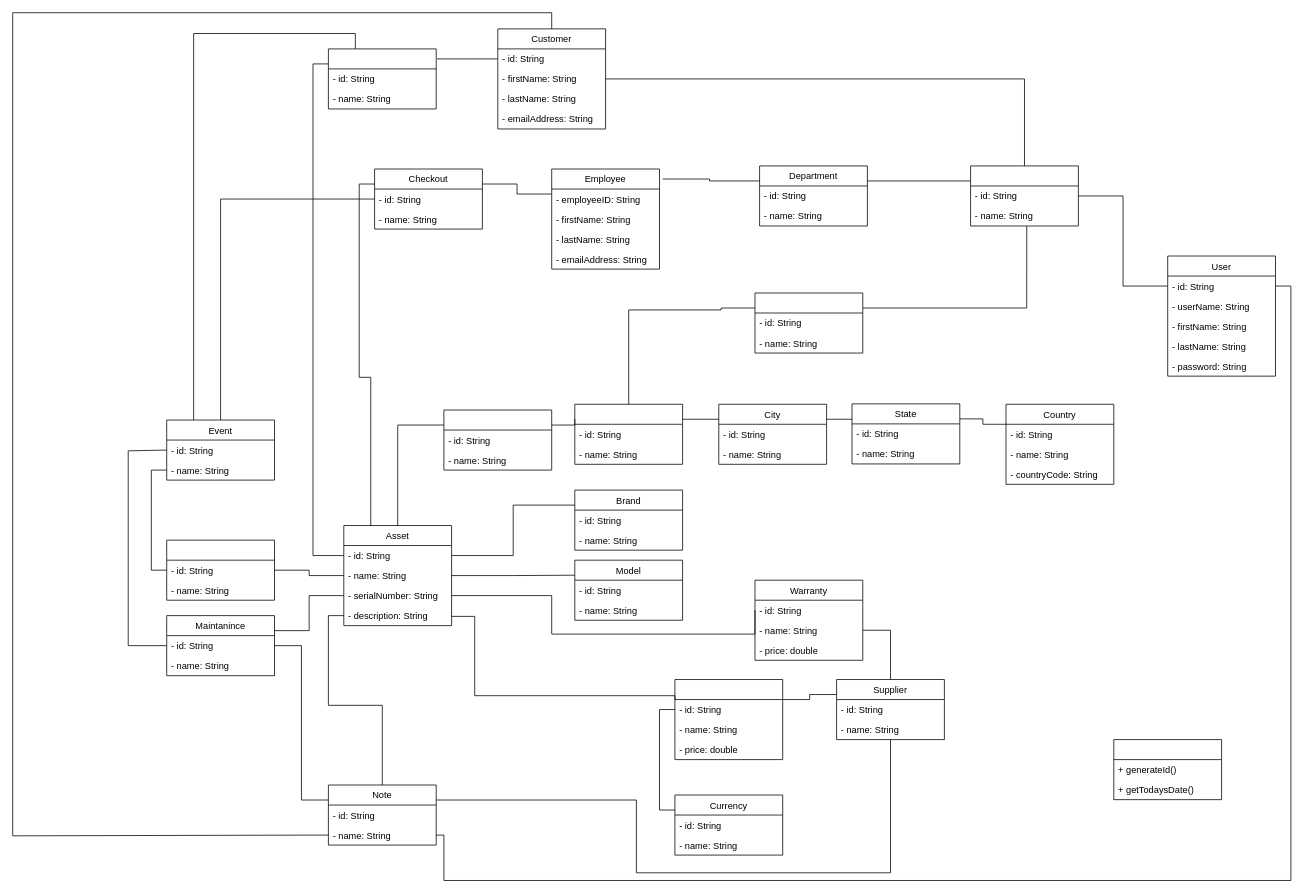
This 1304x893 diagram has some shape labels left out. Each missing label, with the box of its shape:
Address: (754, 292, 863, 353)
Company: (970, 165, 1078, 226)
Lease: (328, 48, 436, 109)
Location: (443, 409, 552, 470)
Mics: (1113, 739, 1222, 800)
PurchaceOrder: (674, 679, 783, 760)
Site: (574, 403, 683, 464)
Status: (166, 539, 275, 600)
